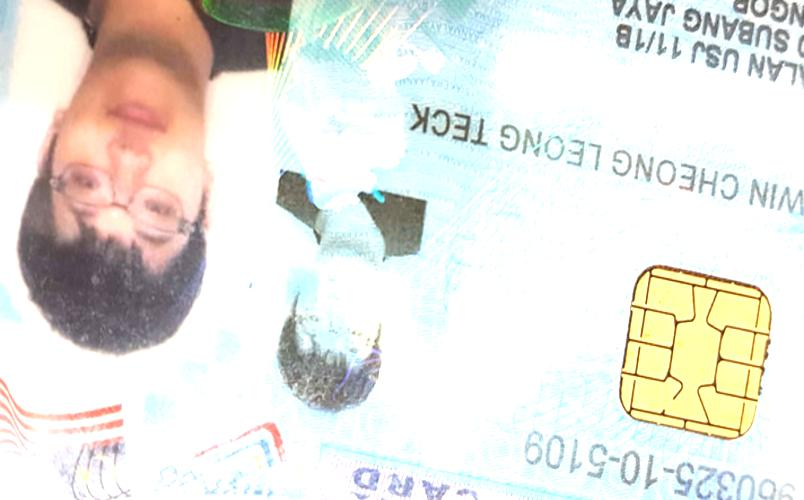hologramB: (294, 4, 498, 58)
